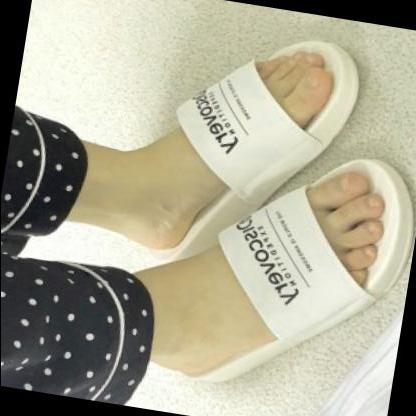no_safety-shoe: (72, 129, 410, 415), (134, 9, 360, 191)
